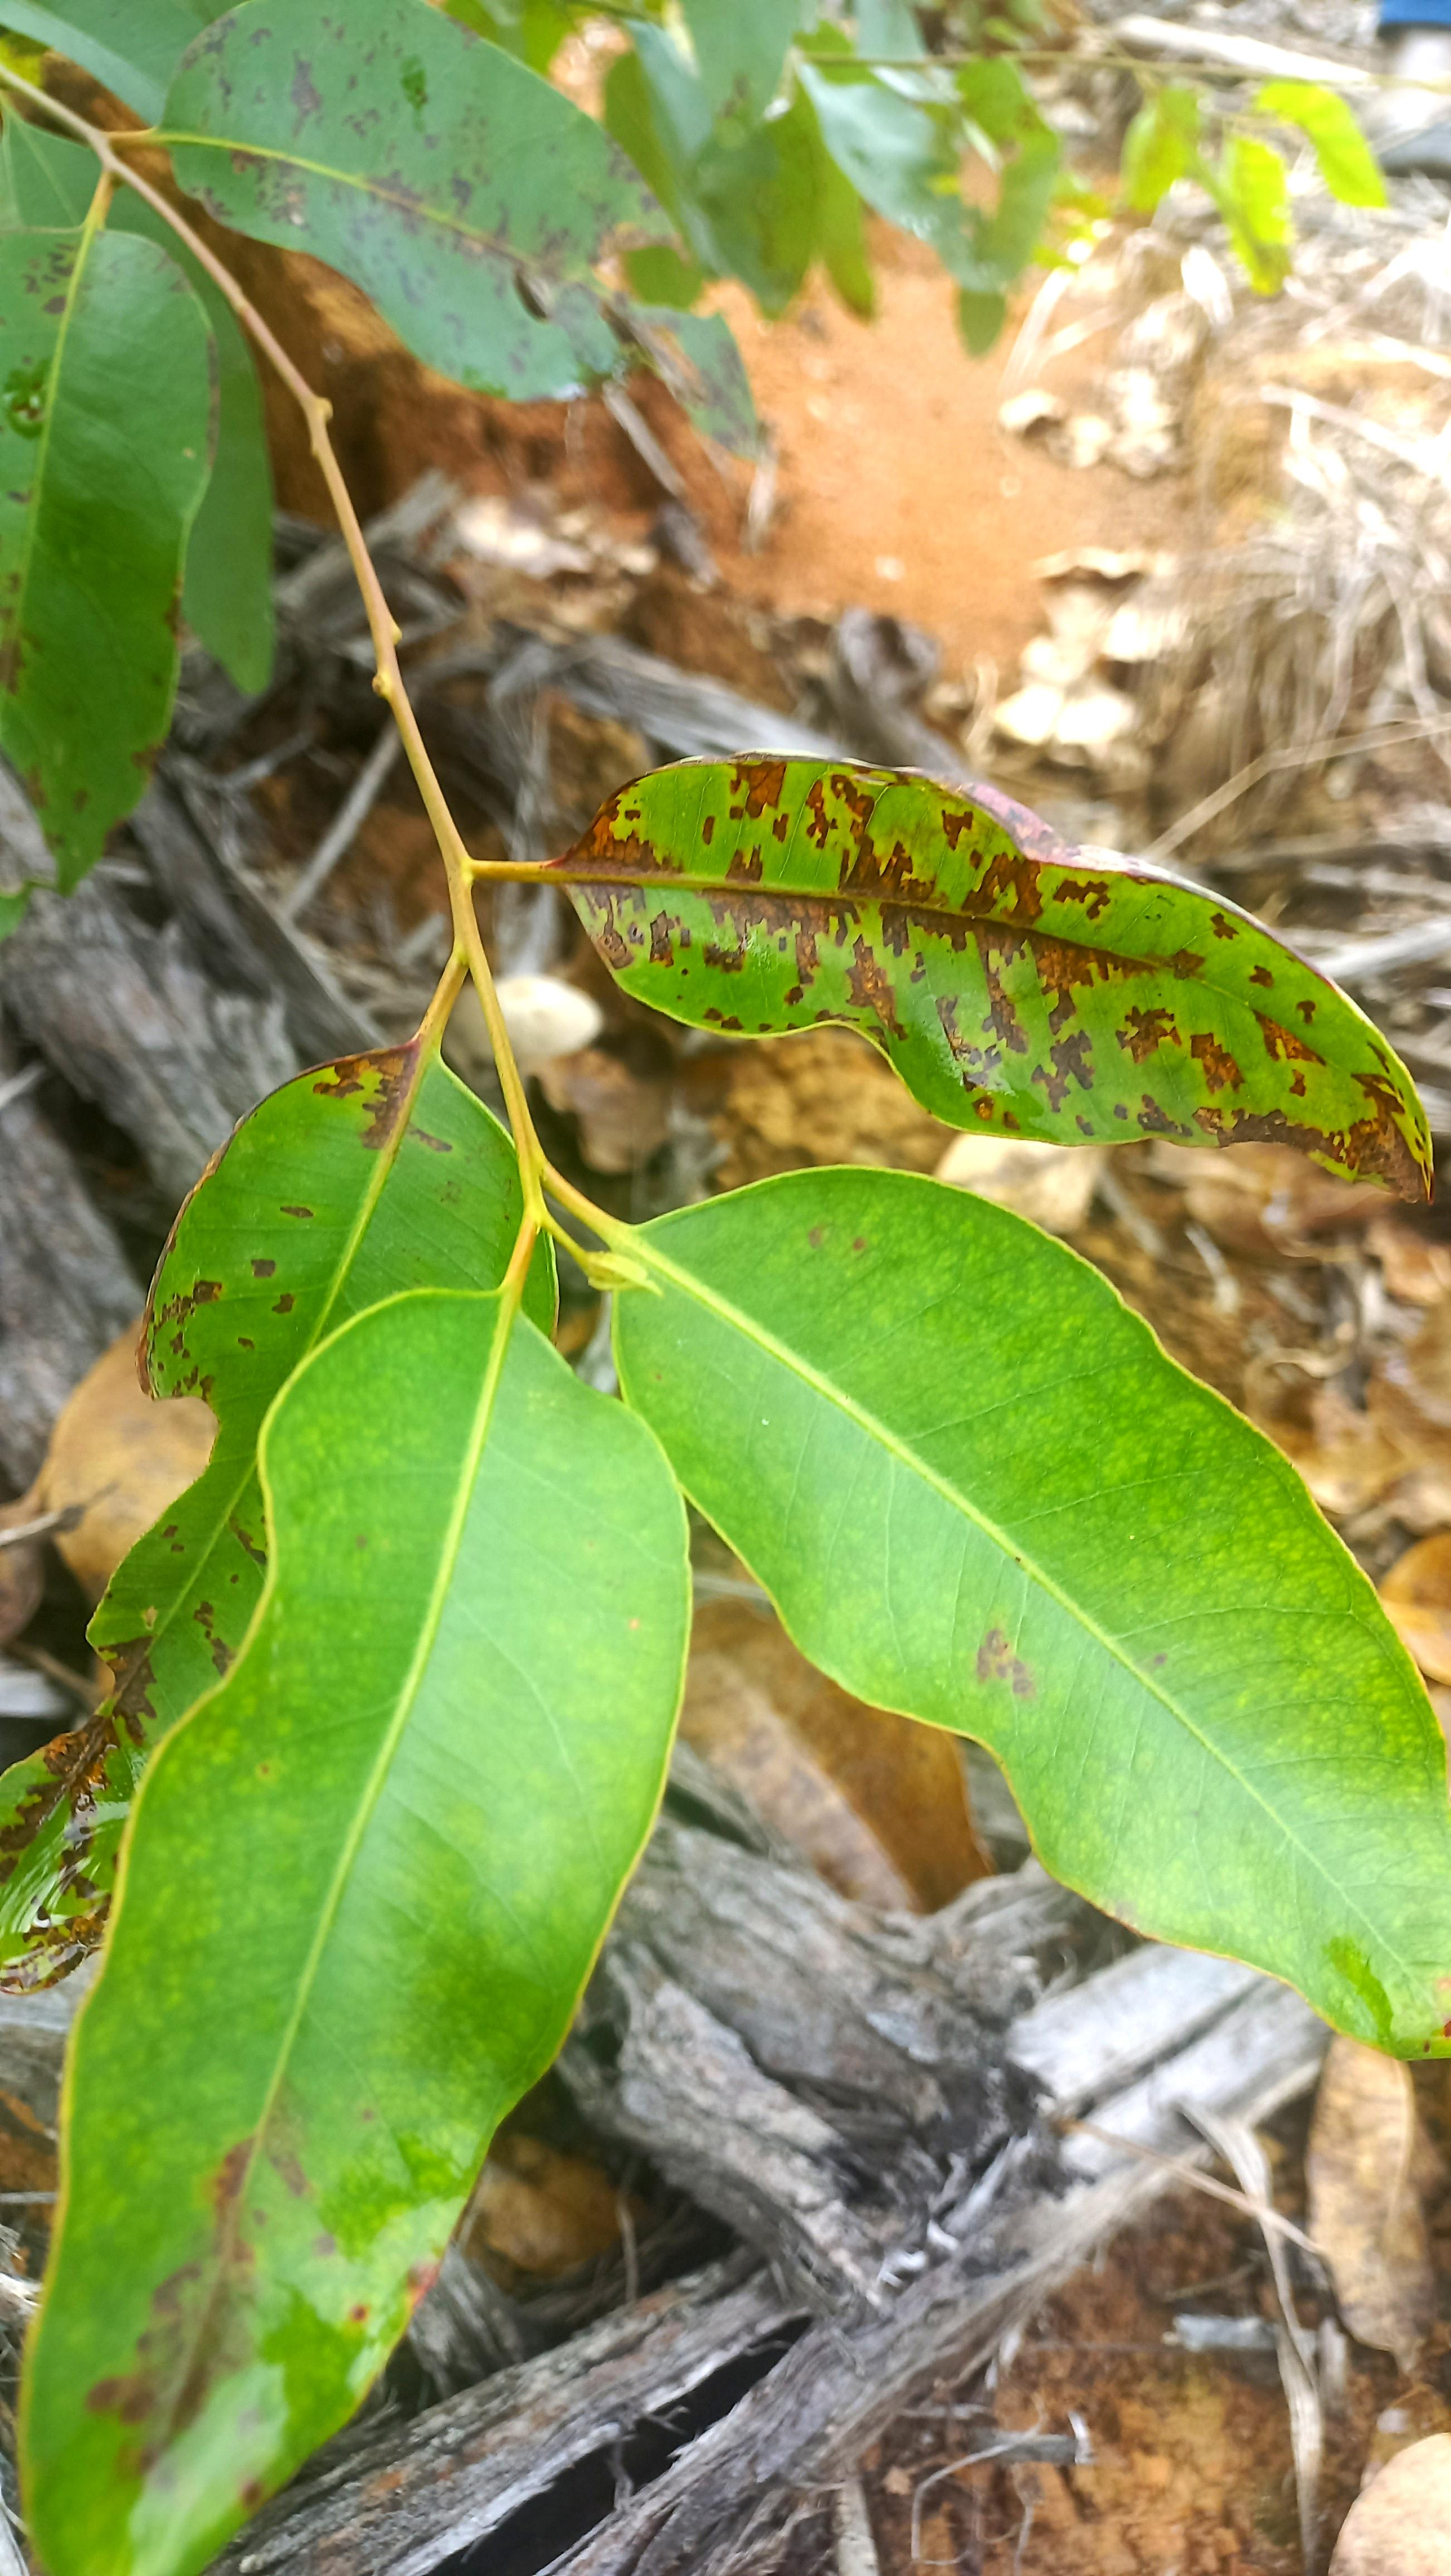Xanthomonas: (570, 754, 1451, 1231), (18, 2031, 448, 2569), (106, 982, 464, 1407), (0, 1555, 225, 2008)
